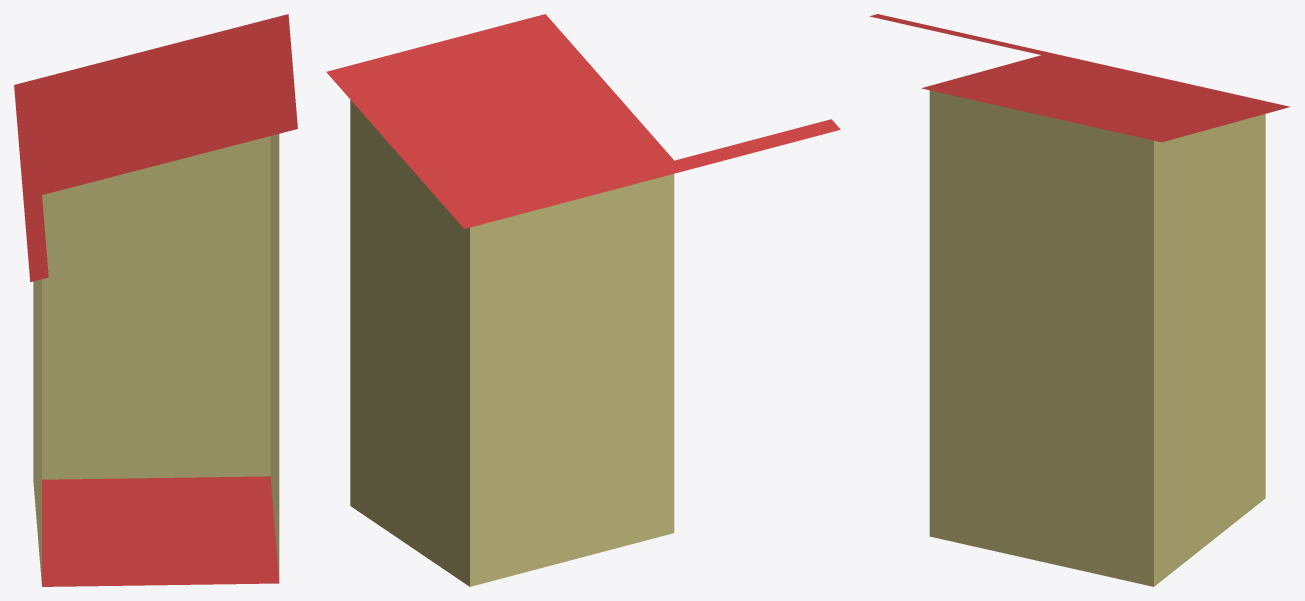
3 renders of one model, left to right at view 1: azimuth 30°, elevation 25°; view 2: azimuth 150°, elevation 25°; view 3: azimuth 270°, elevation 25°, orthographic. The views are drawn at different scales.
Bounding box in the file's own units: 6.22 × 5.67 × 6.75.
